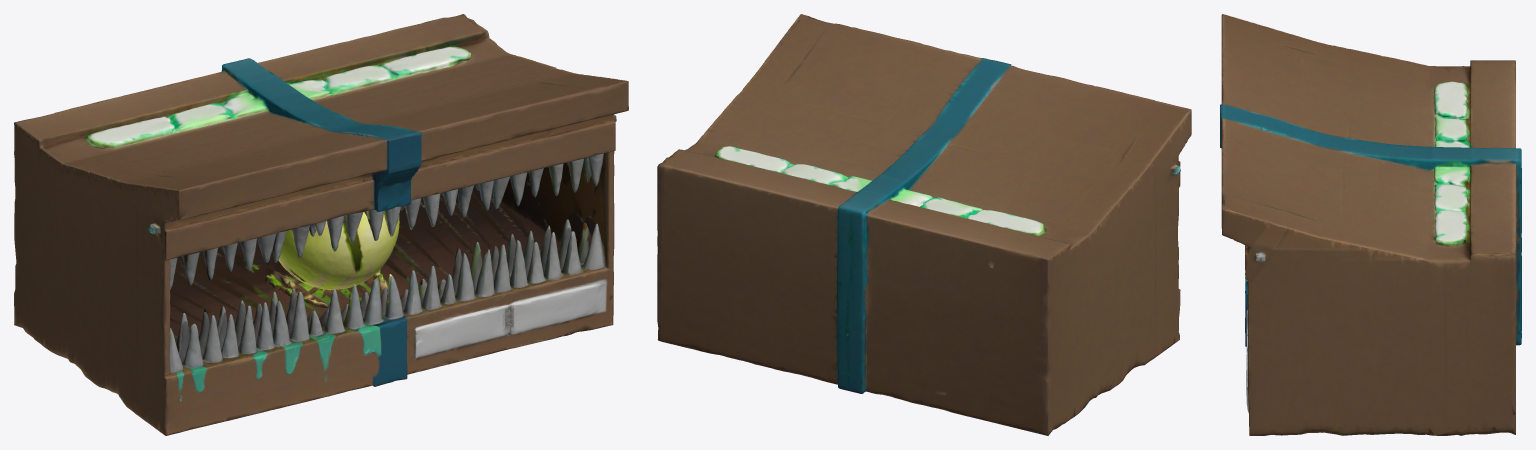
3 views of the same model, side by side, from view 1: azimuth 30°, elevation 25°; view 2: azimuth 150°, elevation 25°; view 3: azimuth 270°, elevation 25° (orthographic). The views are drawn at different scales.
Size of the model in its own units: 1.53 by 0.8142 by 0.9732.
Materials: 1 (1 with a texture image).
